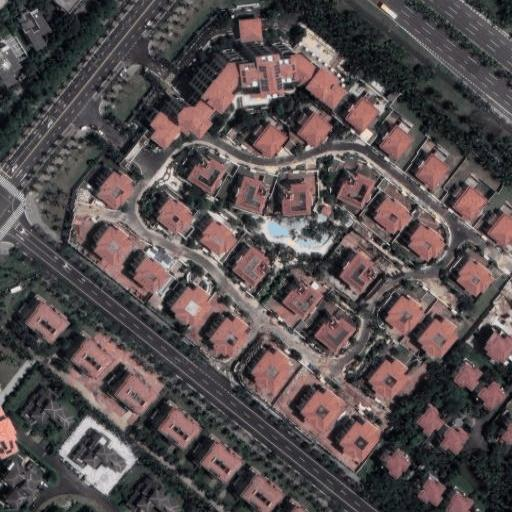building: (160, 282, 210, 339), (19, 384, 76, 431), (72, 429, 131, 473), (242, 344, 293, 394), (288, 384, 337, 432), (330, 415, 378, 461), (156, 405, 204, 451), (85, 219, 130, 266), (24, 300, 71, 345), (114, 372, 161, 417), (198, 439, 244, 484), (70, 336, 115, 381), (126, 475, 180, 512), (201, 315, 246, 359), (417, 317, 461, 359), (240, 472, 286, 512), (232, 246, 274, 288), (16, 2, 52, 51), (366, 358, 409, 399), (80, 154, 120, 198), (280, 279, 322, 320), (385, 295, 426, 337), (128, 252, 169, 293), (336, 171, 377, 211), (372, 195, 412, 236), (313, 315, 355, 354), (186, 155, 227, 194), (456, 257, 495, 298), (301, 57, 340, 98), (209, 50, 252, 87), (338, 254, 378, 293), (407, 223, 446, 263), (173, 87, 210, 129), (156, 196, 194, 235), (199, 220, 238, 258), (296, 111, 333, 150), (234, 177, 271, 214), (344, 98, 381, 135), (273, 44, 312, 77), (453, 185, 488, 221), (253, 124, 288, 159), (0, 38, 24, 89), (379, 126, 413, 161), (143, 106, 175, 143), (415, 155, 449, 189), (251, 43, 277, 85), (196, 69, 230, 101), (280, 181, 311, 215), (476, 380, 506, 414), (113, 128, 143, 162), (415, 404, 445, 437), (451, 363, 484, 392), (483, 331, 512, 364), (383, 448, 413, 479), (418, 476, 448, 507), (487, 213, 512, 248), (439, 426, 469, 455), (140, 238, 170, 266), (0, 410, 16, 456), (300, 272, 327, 297), (444, 491, 476, 512), (248, 17, 272, 45), (236, 88, 268, 105), (499, 421, 512, 447), (179, 222, 194, 238), (362, 92, 378, 107), (144, 291, 158, 305), (396, 121, 410, 134), (453, 187, 466, 200), (433, 151, 446, 163), (487, 214, 499, 227), (297, 114, 309, 127), (319, 110, 331, 122), (254, 126, 265, 139)
